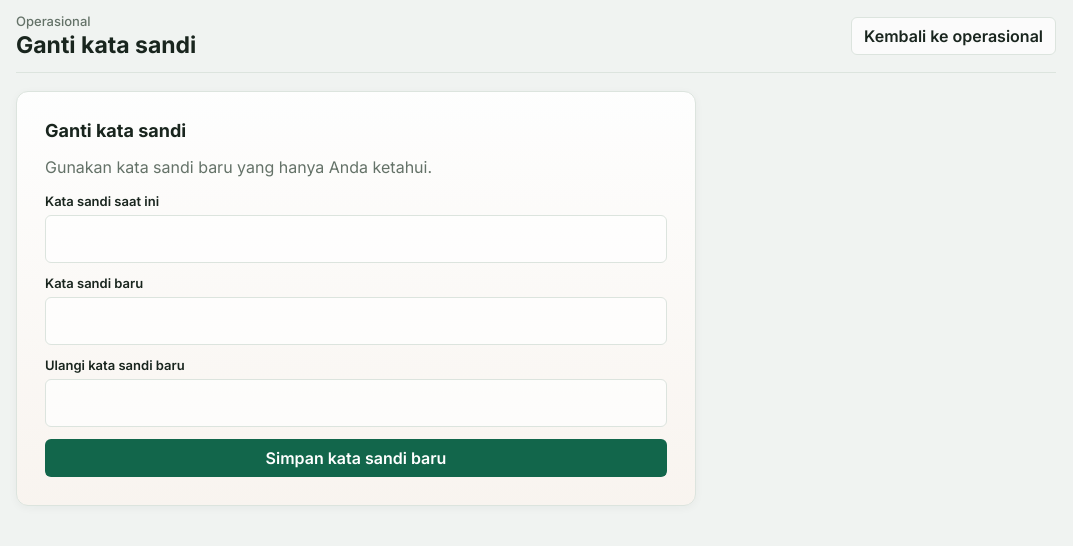
Test: ChangePasswordPage › menolak konfirmasi yang tidak sama sebelum memanggil API
The image size is (1073, 546).
In the password field labelled "Kata sandi saat ini": (356, 239) top-left (45, 215), bottom-right (667, 263), type "OldPass#2026"
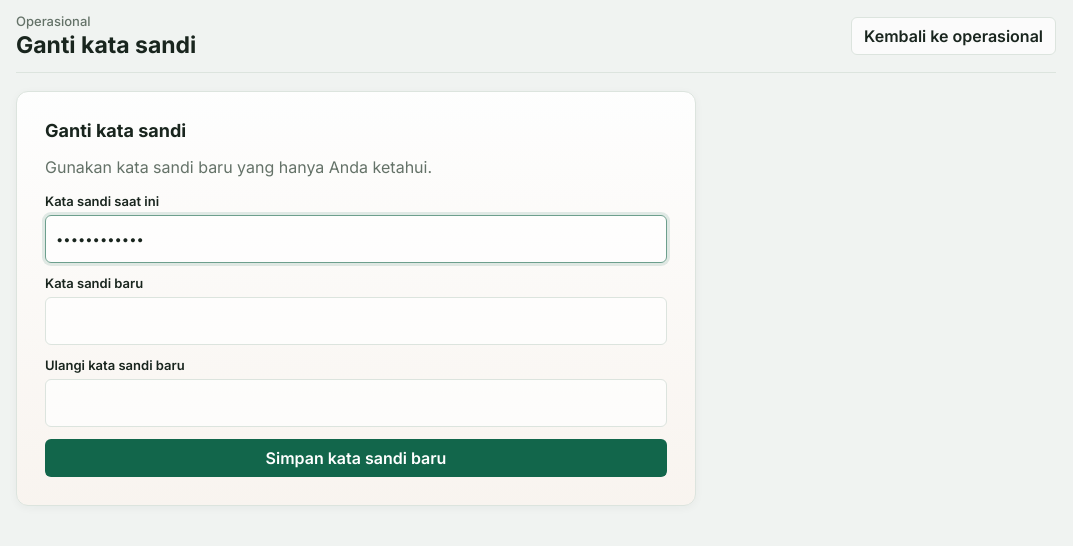
In the password field labelled "Kata sandi baru": (356, 321) top-left (45, 297), bottom-right (667, 345), type "NewPass#2026"
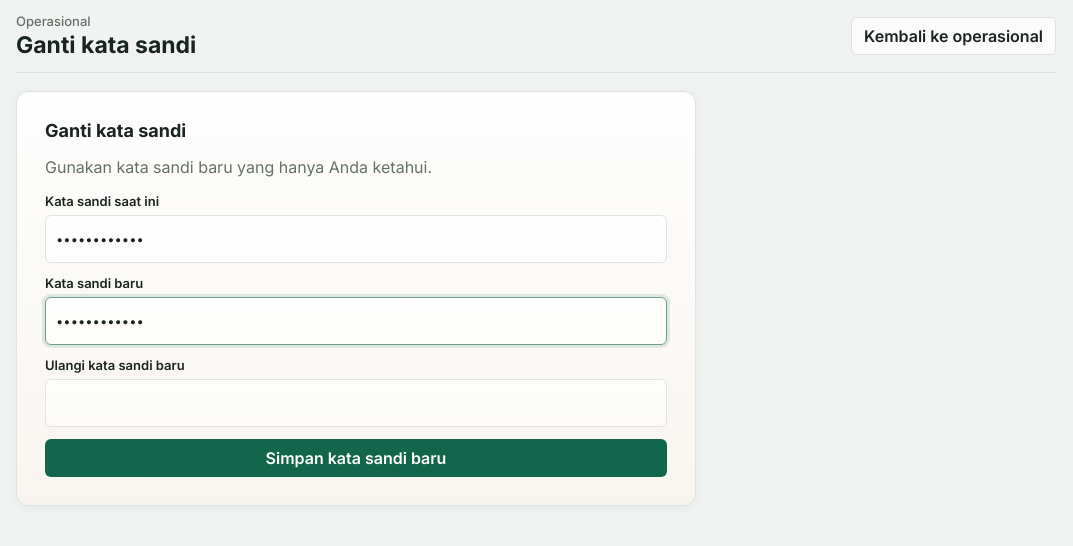
In the password field labelled "Ulangi kata sandi baru": (356, 403) top-left (45, 379), bottom-right (667, 427), type "OtherPass#2026"
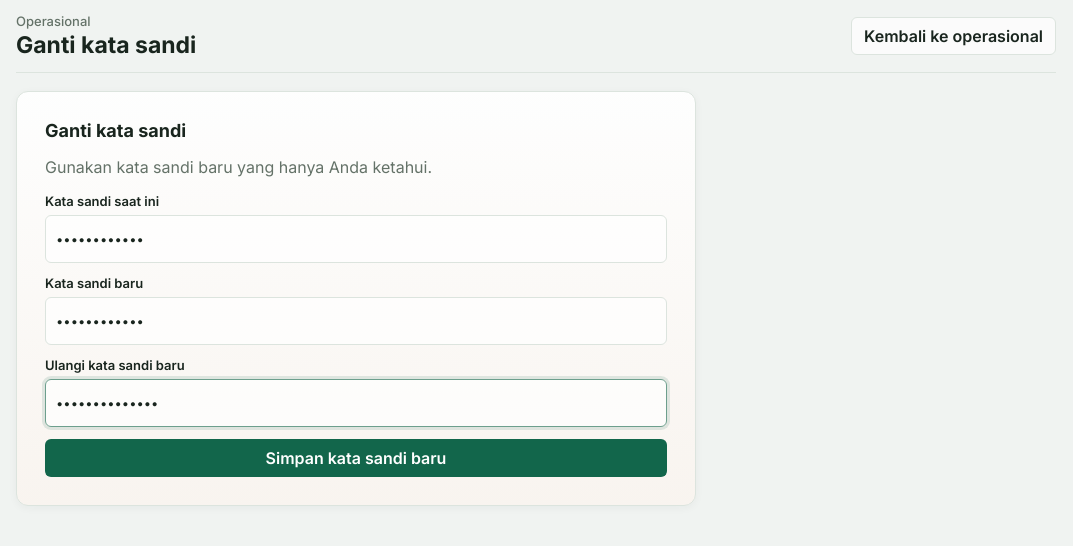
Click the button "Simpan kata sandi baru": (356, 458) top-left (45, 439), bottom-right (667, 477)
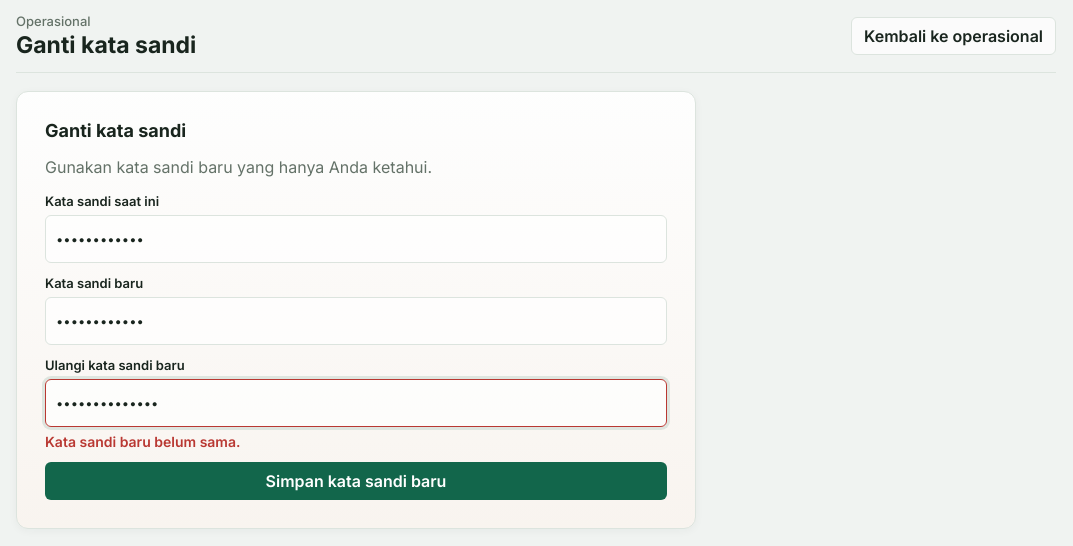
Check: the text "Kata sandi baru belum sama." is shown, box top-left (45, 433), bottom-right (240, 450)
